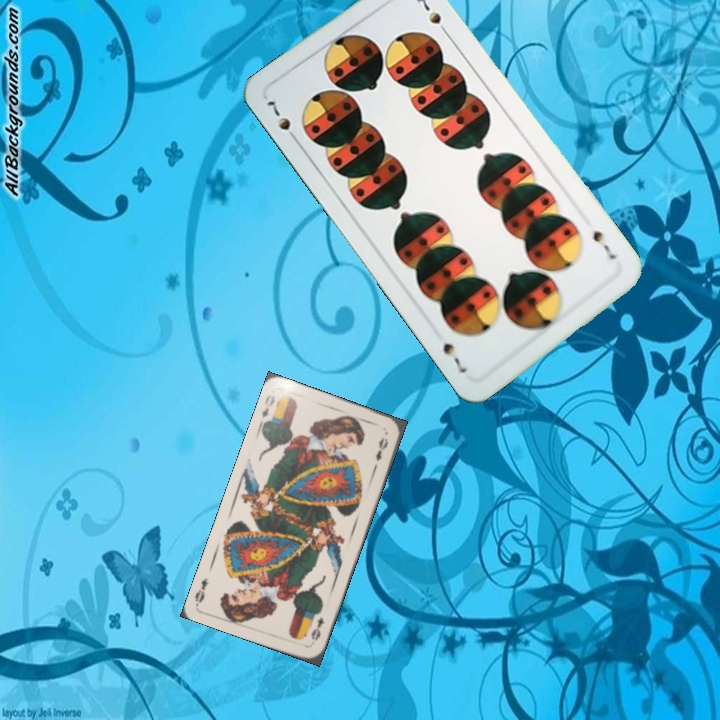EO: (255, 390, 282, 428), (307, 613, 327, 643)
S7: (261, 96, 302, 146), (588, 226, 619, 263)
